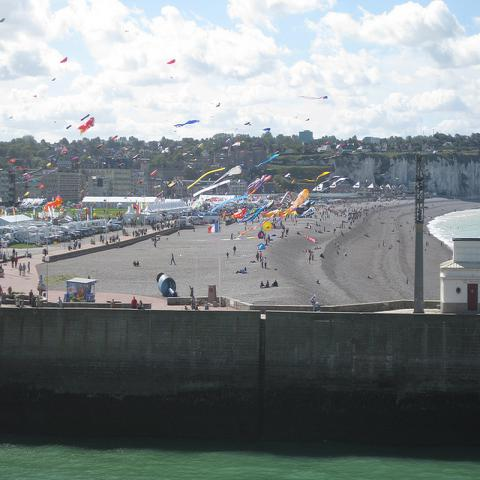car: (81, 229, 89, 238)
